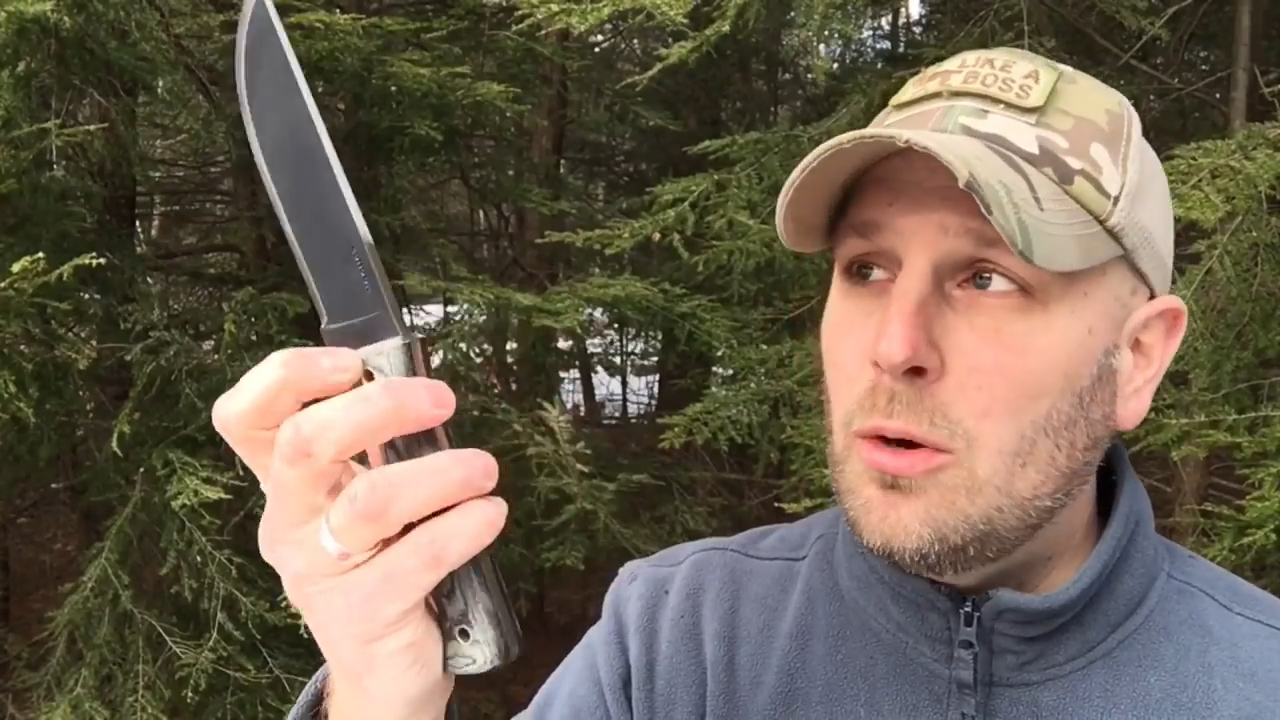knife: (208, 1, 509, 491)
